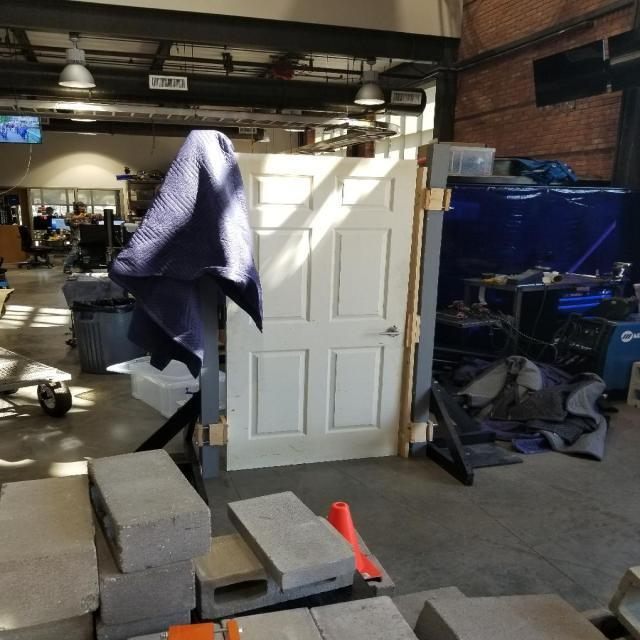door: (220, 150, 419, 475), (378, 321, 406, 339)
